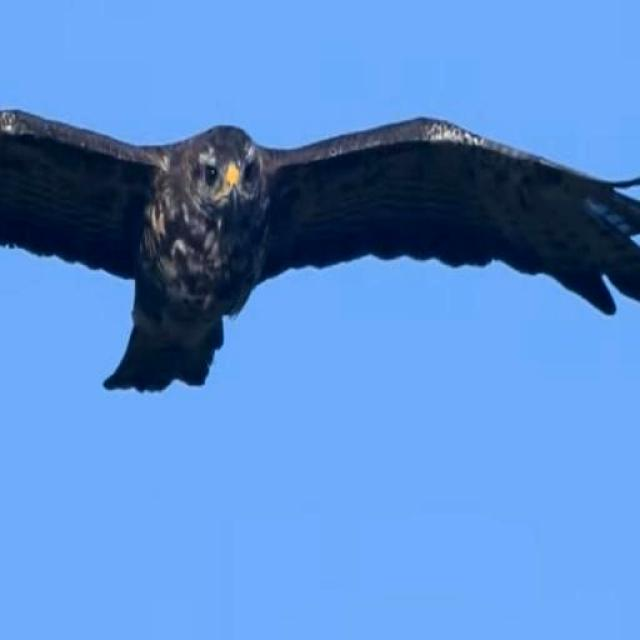airplane: (0, 95, 640, 404)
